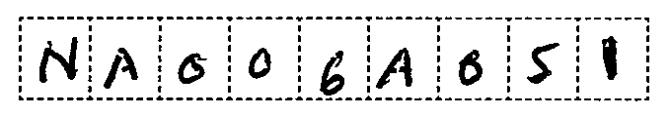0: (454, 47, 490, 91), (243, 41, 279, 83), (174, 48, 210, 87)
1: (594, 32, 627, 84)
5: (520, 38, 562, 88)
6: (315, 48, 350, 97)
A: (99, 42, 142, 94), (374, 45, 420, 92)
N: (34, 33, 82, 85)
